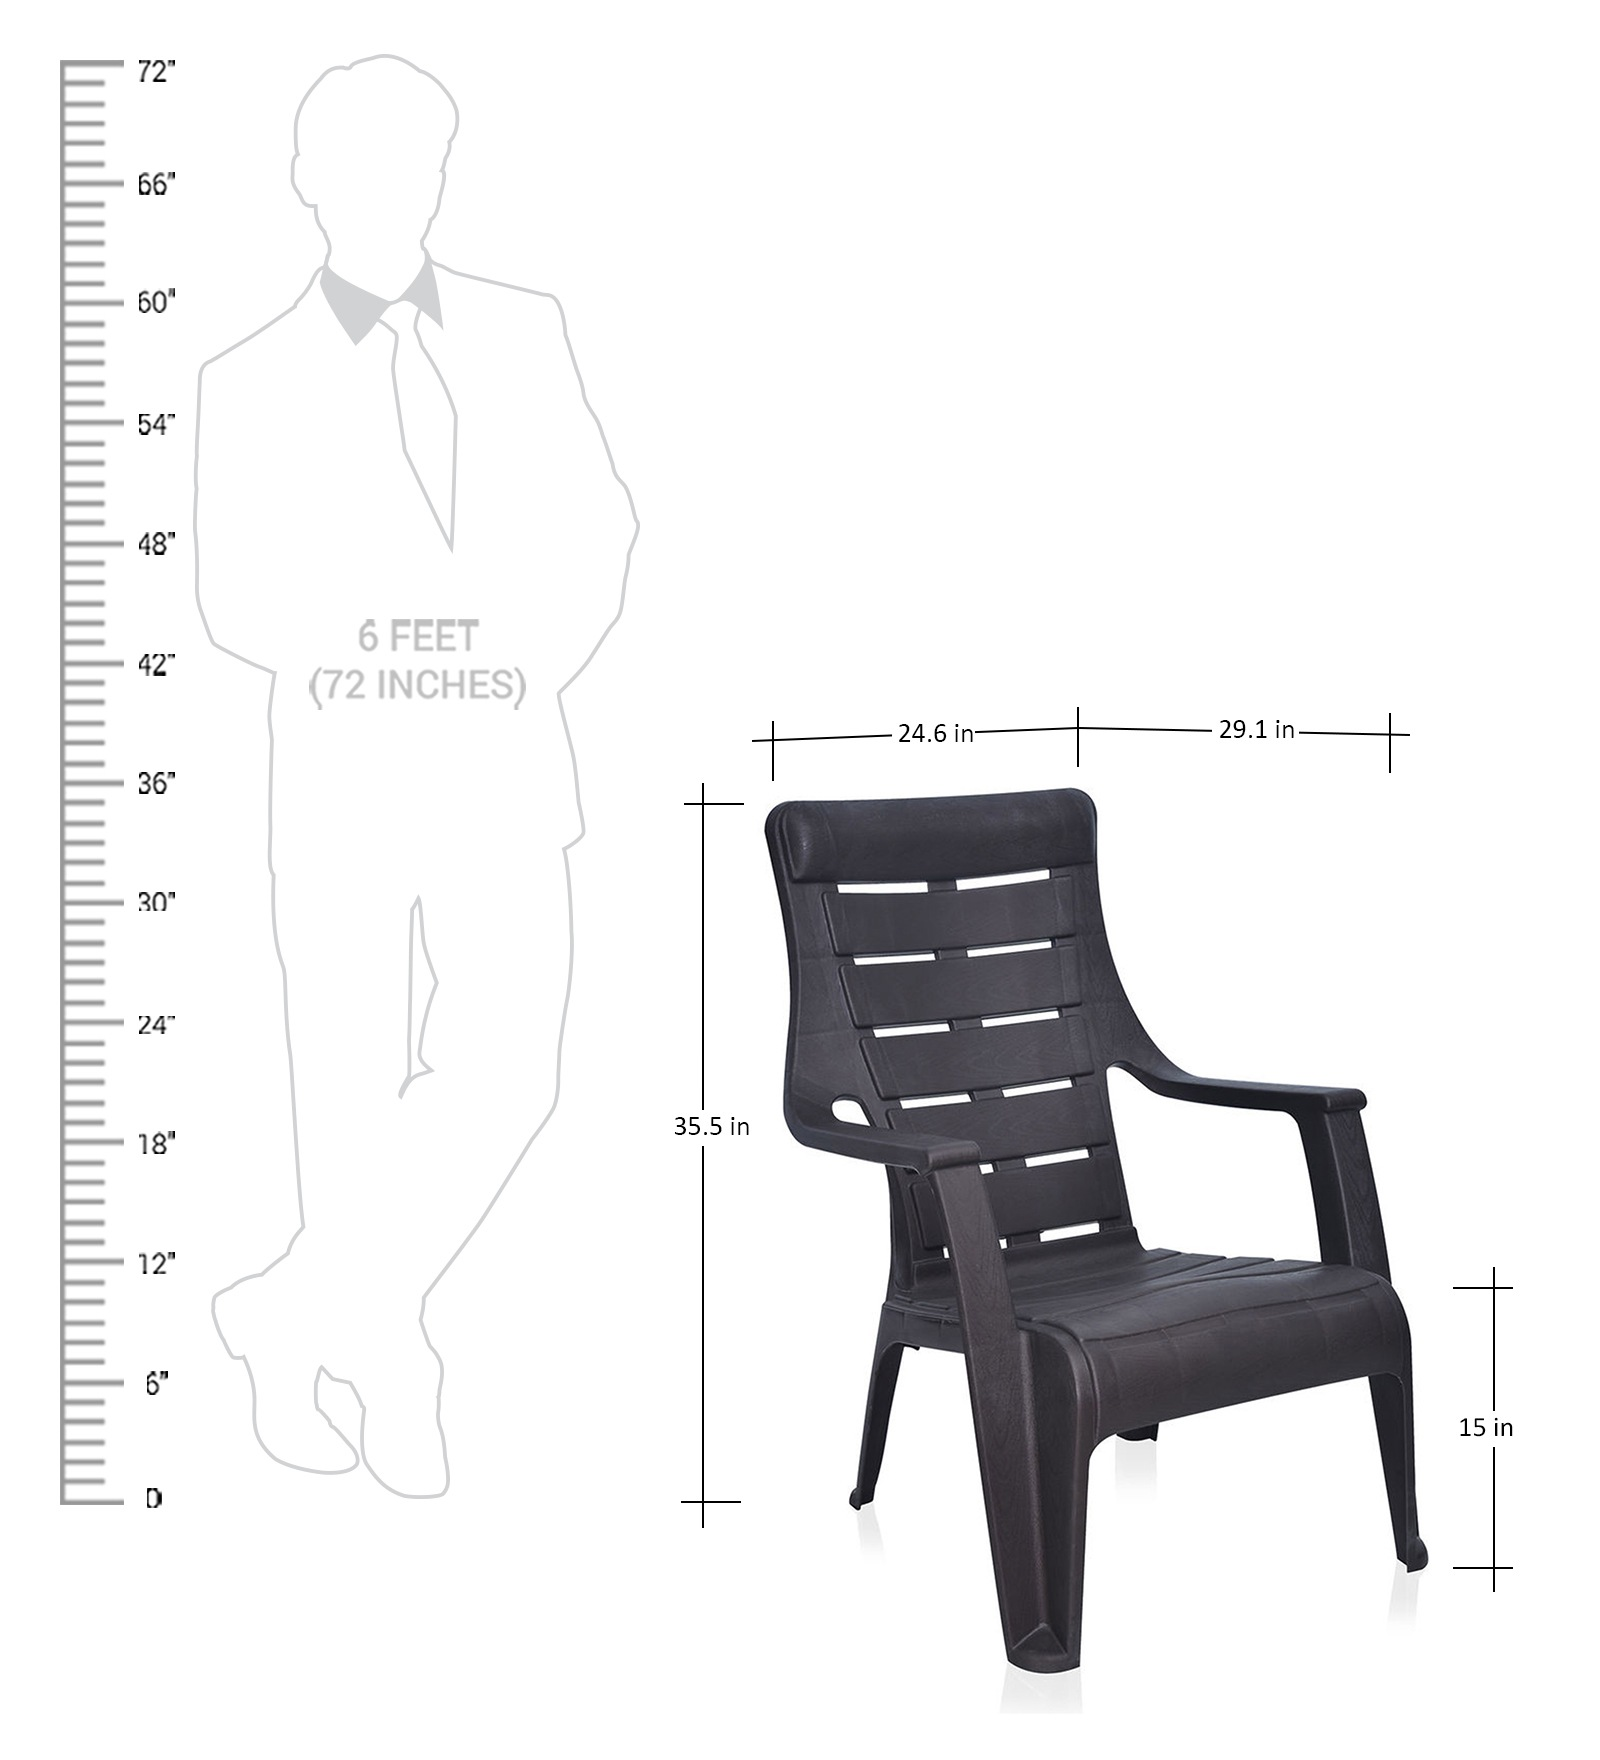Sunday Leisure Chair Set of 2 in Dark Brown Colour by Nilkamal: (756, 788, 1448, 1703)
